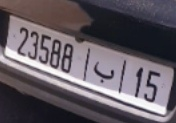1: (134, 66, 144, 99)
2: (17, 26, 26, 57)
3: (27, 29, 39, 60)
5: (143, 67, 160, 103), (38, 35, 50, 64)
8: (61, 43, 74, 72), (49, 38, 61, 68)
b: (92, 60, 115, 84)
